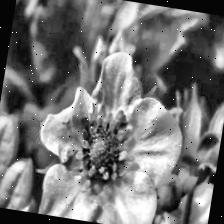Blossom Blight: (58, 99, 144, 199)
